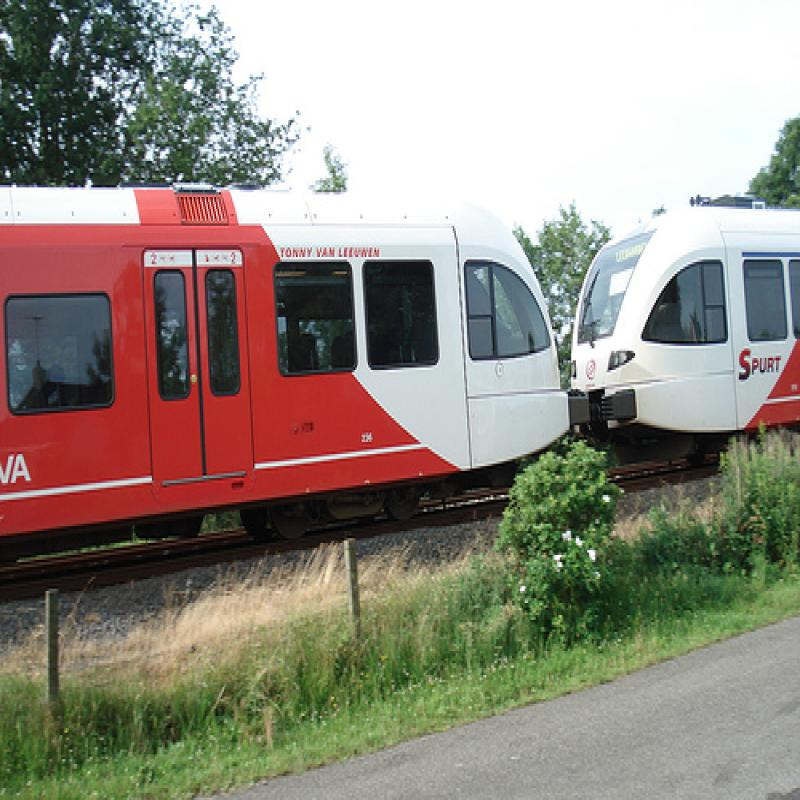train: (1, 183, 799, 568)
